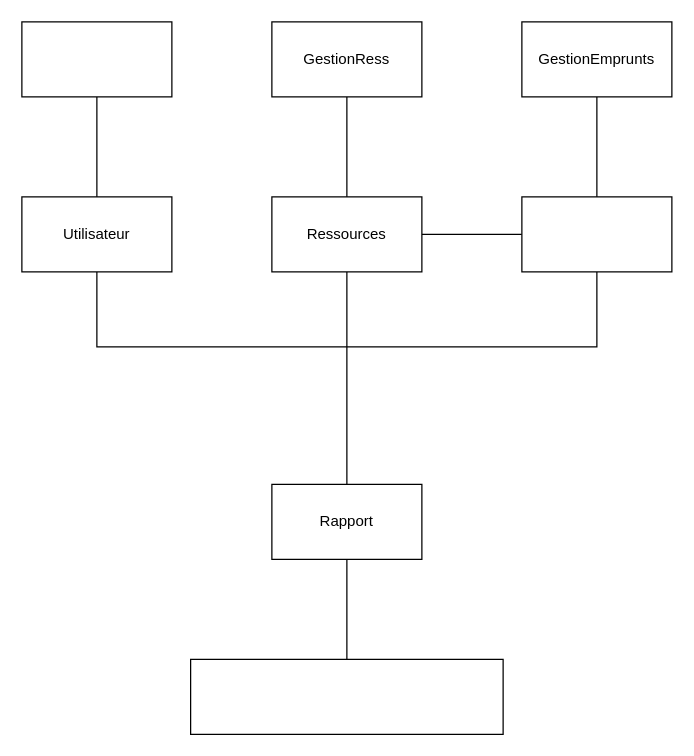
Image size: 694x756. Some labels were removed from this diagram. The centre of each missing label's shape, as x and y in pixels:
"Emprunt" belongs at (x=596, y=234).
"GestionUser" belongs at (x=96, y=59).
"Génération de statistiques" belongs at (x=346, y=696).
